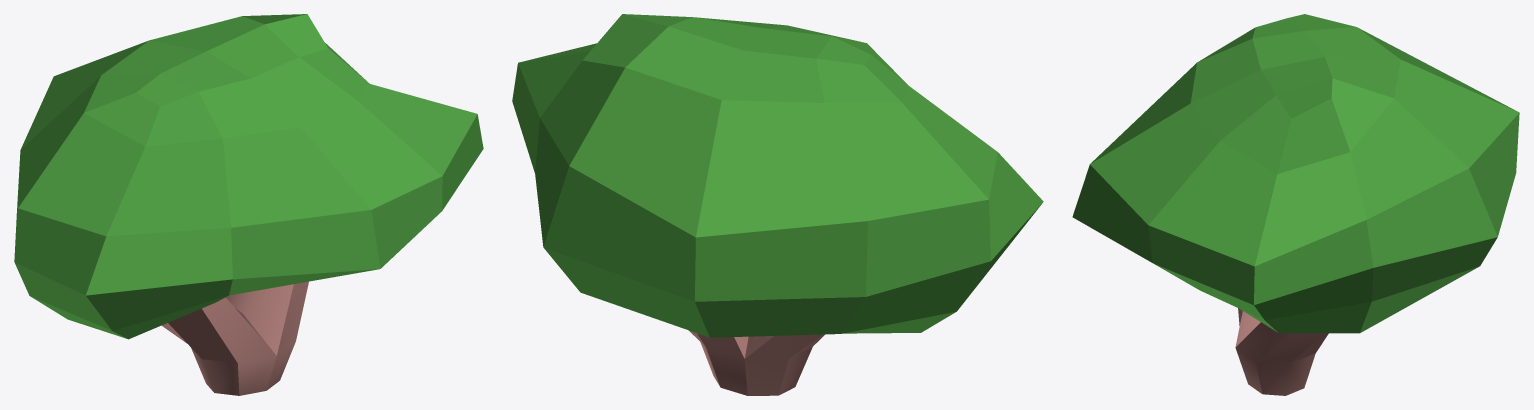
The model's file is Bush_Mod.fbx.
3 views of the same model, side by side, from view 1: azimuth 30°, elevation 25°; view 2: azimuth 150°, elevation 25°; view 3: azimuth 270°, elevation 25° (orthographic). The views are drawn at different scales.
Parts seen in each view (by area): view 1: pCylinder1; view 2: pCylinder1; view 3: pCylinder1.
Boxes of the visible parts, x1,y1,x2,y2 form: pCylinder1: (14,14,483,395); pCylinder1: (512,14,1043,395); pCylinder1: (1072,14,1519,395).
Size of the model in its own units: 103 by 71.26 by 88.51.
